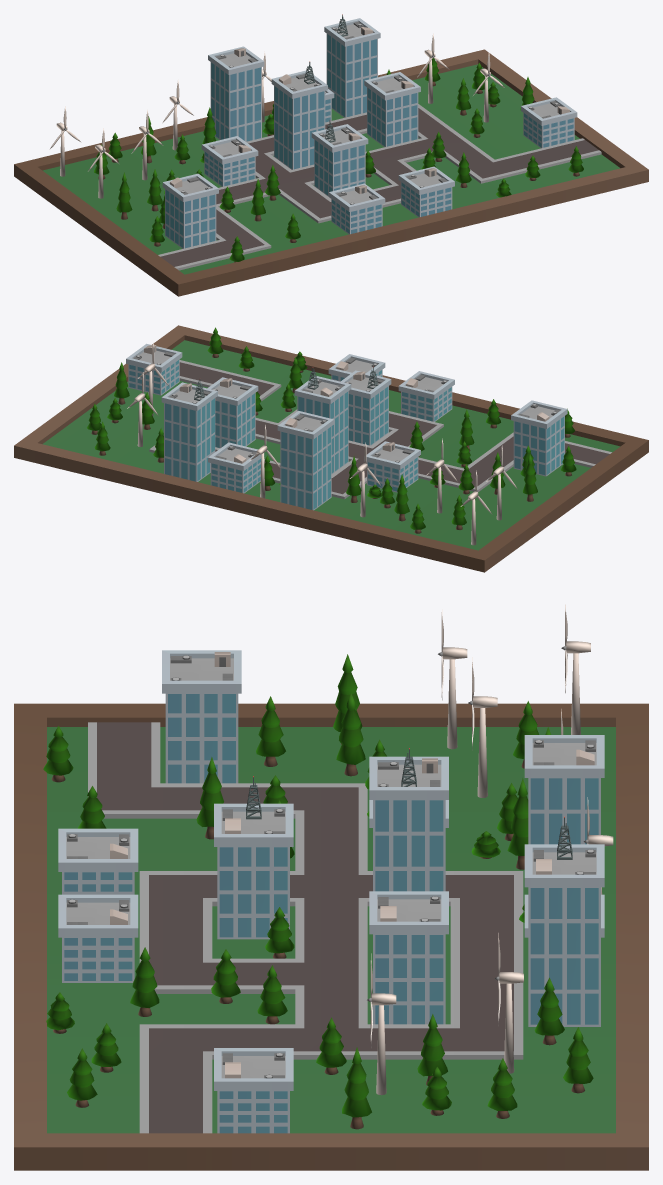
The model's file is Kota 1.glb.
The picture shows the model from 3 angles, top to bottom: view 1: azimuth 30°, elevation 25°; view 2: azimuth 150°, elevation 25°; view 3: azimuth 270°, elevation 25°; orthographic projection. The views are drawn at different scales.
Parts seen in each view (by area): view 1: Cube, Plane.001, Cube.006, Cube.005, Cube.008, Cube.004, Cube.003, Cube.001, Cube.002, Cube.009, Cube.011, Cube.010 (+1 smaller); view 2: Cube, Plane.001, Cube.006, Cube.008, Cube.003, Cube.001, Cube.005, Cube.004, Cube.010, Cube.007, Cube.002, Cube.009 (+5 smaller); view 3: Cube, Plane.001, Cube.008, Cube.005, Cube.003, Cube.004, Cube.001, Cube.006, Cube.011, Cube.009, Cube.010, Cylinder.020 (+26 smaller).
Boxes of the visible parts, x1,y1,x2,y2 form: Cube: (14,49,648,296); Plane.001: (158,104,601,270); Cube.006: (208,46,264,141); Cube.005: (271,70,327,169); Cube.008: (324,18,380,117); Cube.004: (364,72,420,146); Cube.003: (162,173,218,248); Cube.001: (311,124,368,196); Cube.002: (201,136,258,186); Cube.009: (521,97,577,148); Cube.011: (398,166,454,217); Cube.010: (328,183,385,234); Cube: (14,325,648,572); Plane.001: (149,360,611,499); Cube.006: (277,411,334,510); Cube.008: (161,382,217,481); Cube.003: (511,400,567,476); Cube.001: (341,370,391,445); Cube.005: (294,376,351,474); Cube.004: (207,377,258,448); Cube.010: (398,371,454,421); Cube.007: (208,442,264,493); Cube.002: (364,441,420,492); Cube.009: (126,343,182,395); Cube: (14,703,648,1170); Plane.001: (88,722,523,1133); Cube.008: (524,844,604,1026); Cube.005: (369,756,448,891); Cube.003: (162,650,241,783); Cube.004: (369,891,448,1024); Cube.001: (214,803,293,939); Cube.006: (524,735,604,844); Cube.011: (58,894,138,982); Cube.009: (214,1048,293,1133); Cube.010: (58,828,138,894); Cylinder.020: (336,693,365,776).
Size of the model in its own units: 20.25 by 4.24 by 12.25.
Materials: 1 (1 with a texture image).
